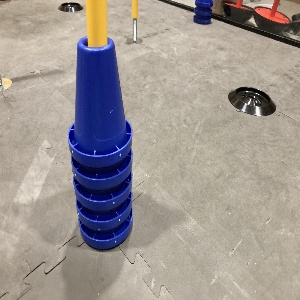Blue_5: (66, 31, 134, 256)
